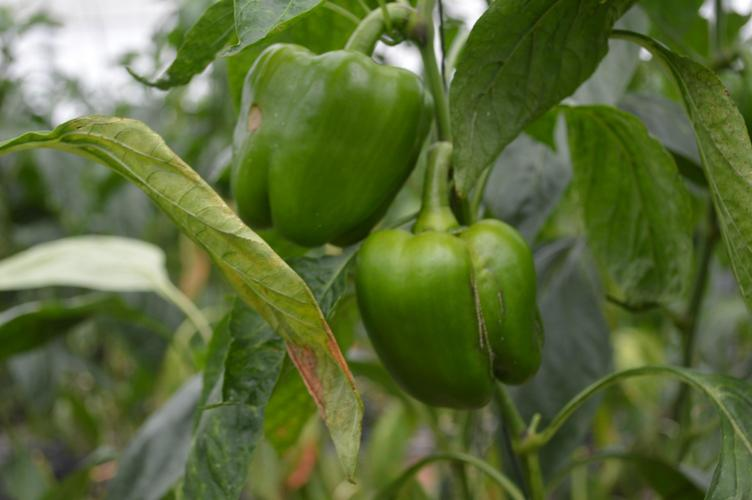BellPepper: (227, 44, 432, 238), (351, 219, 548, 415)
